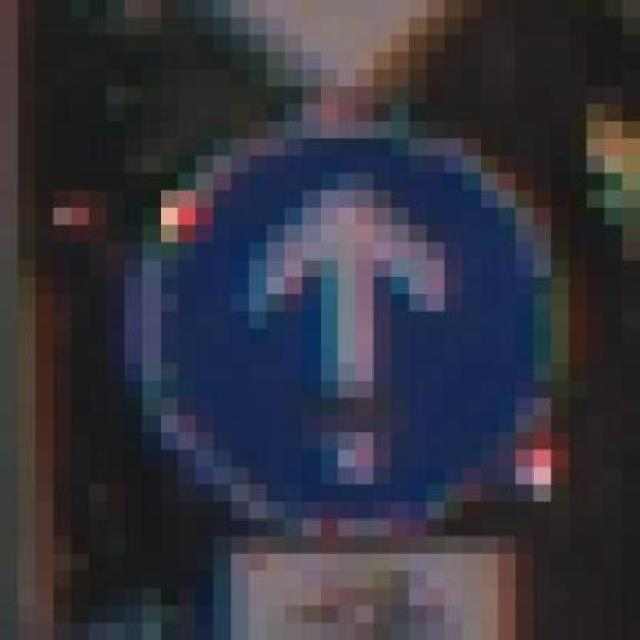Straight Ahead Only: (124, 86, 587, 537)
